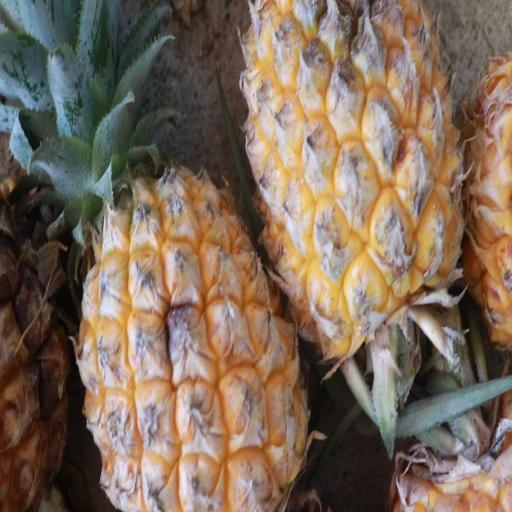Pineapple - v8 v1: (72, 0, 319, 512), (238, 0, 468, 380)
